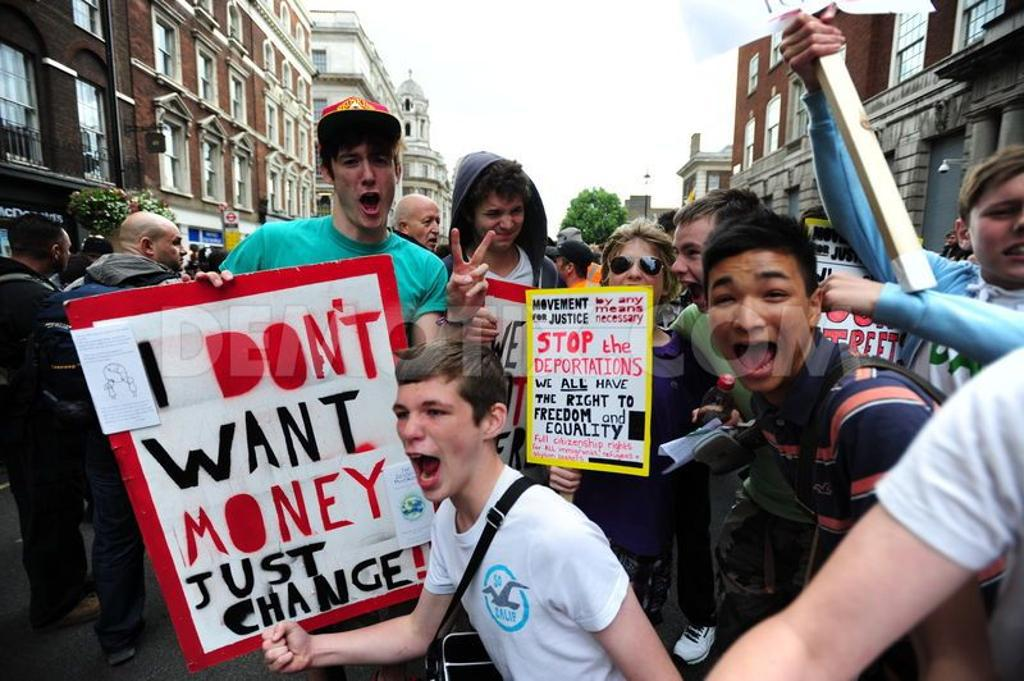face: (709, 252, 809, 394), (394, 380, 483, 501), (970, 170, 1024, 285), (669, 216, 732, 313), (333, 145, 396, 228), (609, 240, 665, 314), (476, 191, 525, 253), (154, 221, 187, 274), (412, 204, 441, 250), (48, 226, 73, 276), (86, 251, 112, 275), (555, 255, 574, 280), (947, 235, 956, 246)
